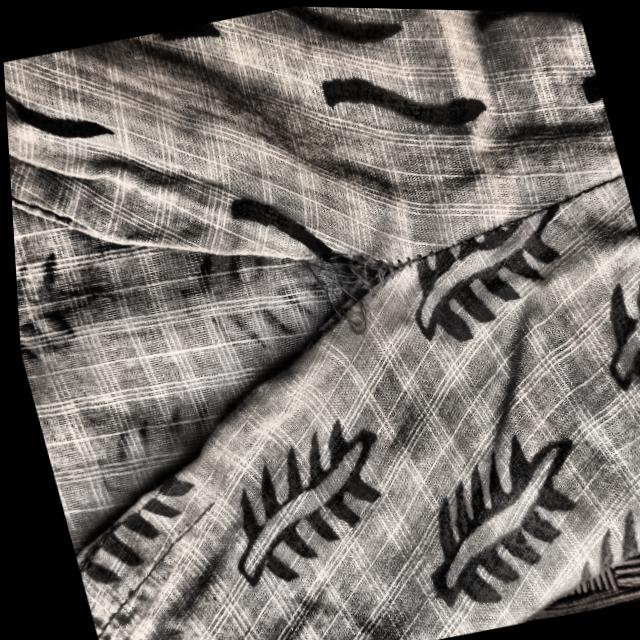Stitch: (267, 159, 460, 347)
